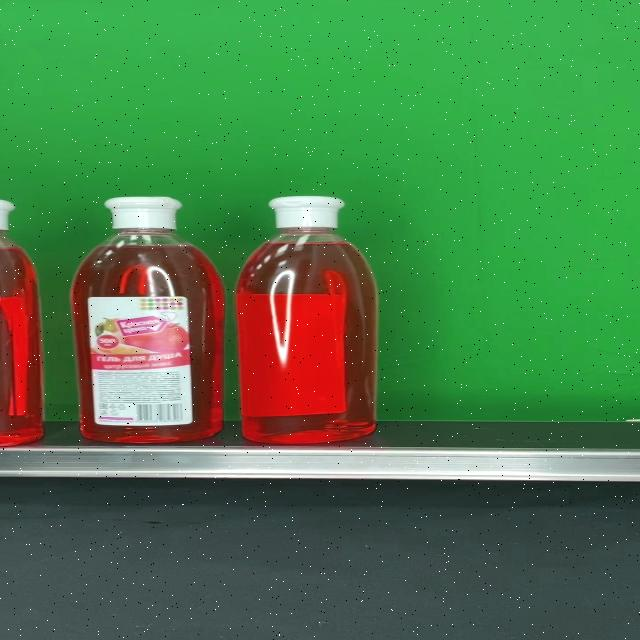Bottle: (70, 196, 226, 444), (235, 196, 376, 444)
Cap: (266, 196, 346, 230), (102, 196, 182, 229)
